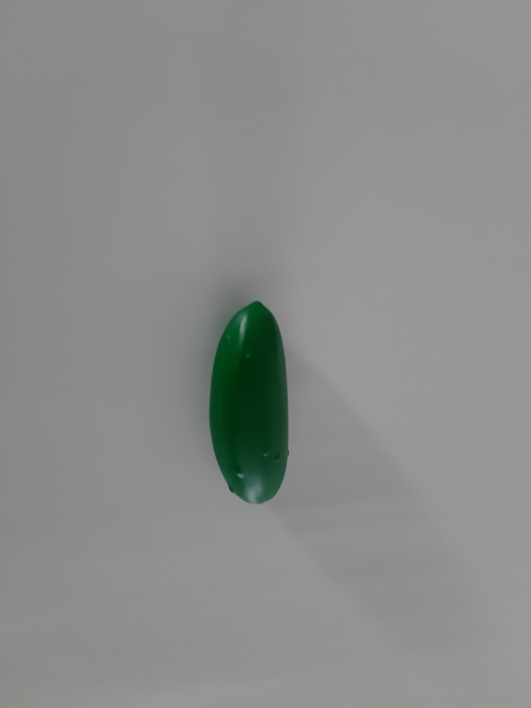cucumber: (185, 277, 321, 517)
